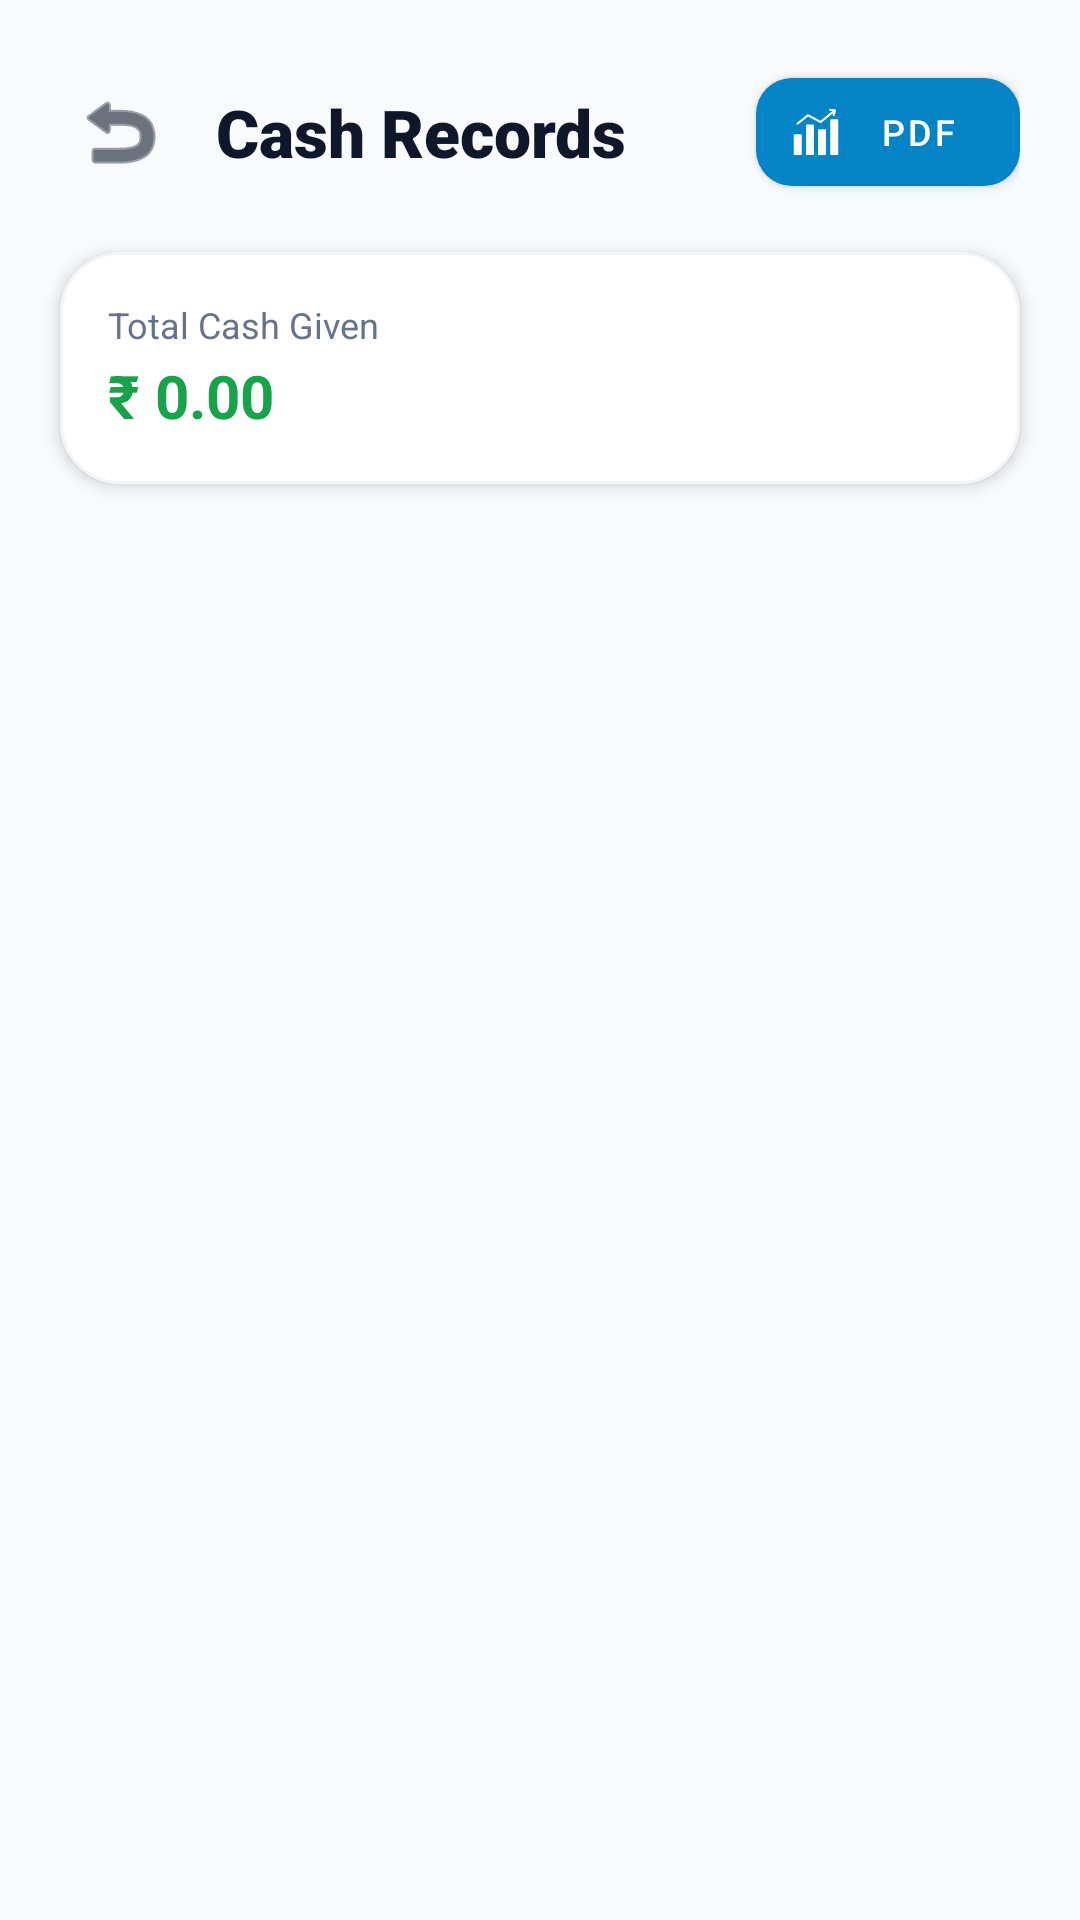

Icon click points for this 1080w x 1920h phone screenshot, format point (x, y):
revert: point (121, 132)
